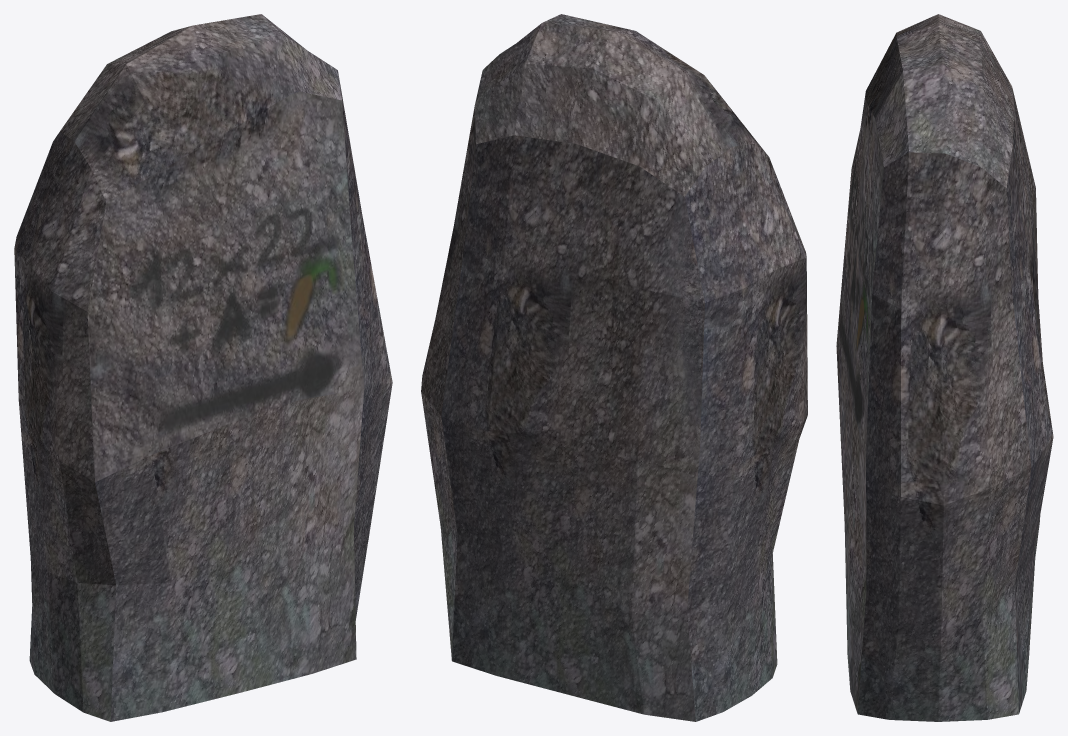
File: WayStone.glb
3 views of the same model, side by side, from view 1: azimuth 30°, elevation 25°; view 2: azimuth 150°, elevation 25°; view 3: azimuth 270°, elevation 25° (orthographic).
Parts seen in each view (by area): view 1: WayStone; view 2: WayStone; view 3: WayStone.
Part boxes in pixels (x1,y1,x2,y2): WayStone: (14,14,392,721); WayStone: (421,14,807,721); WayStone: (836,14,1053,721).
Bounding box in the file's own units: 0.6036 × 1.03 × 0.319.
1 material, 1 textured.
